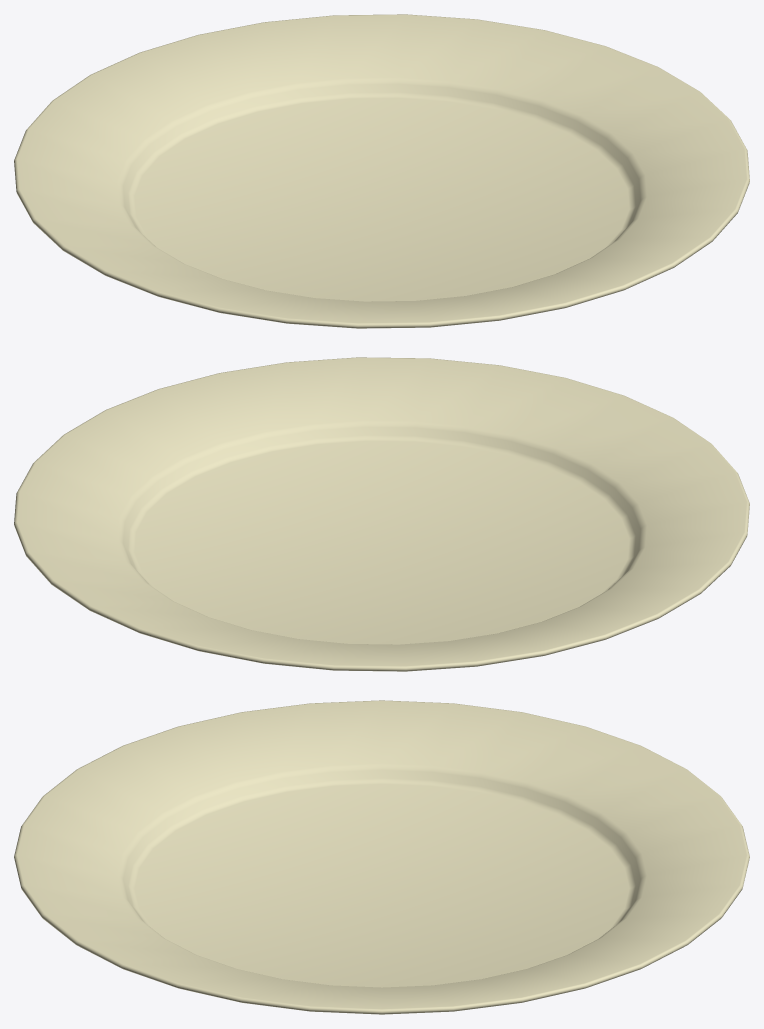
Rendered from plate.glb.
The picture shows the model from 3 angles, top to bottom: view 1: azimuth 30°, elevation 25°; view 2: azimuth 150°, elevation 25°; view 3: azimuth 270°, elevation 25°; orthographic projection.
Parts seen in each view (by area): view 1: Plate; view 2: Plate; view 3: Plate.
Part boxes in pixels (box(x1,y1,x2,y2)): Plate: box(14, 14, 749, 328); Plate: box(14, 357, 749, 671); Plate: box(14, 700, 749, 1014).
Bounding box in the file's own units: 0.2634 × 0.0152 × 0.2634.
